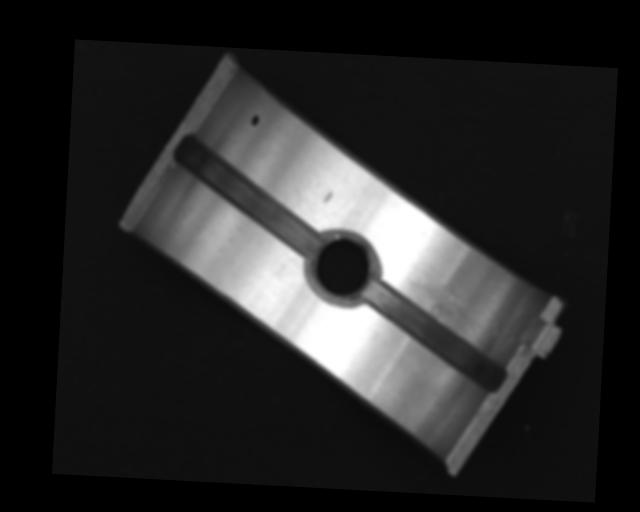blot: (250, 114, 259, 128)
bruise: (323, 191, 334, 204)
gap: (175, 136, 321, 257), (360, 281, 507, 395)
hole: (305, 229, 379, 308)
scratch: (399, 273, 485, 338)
